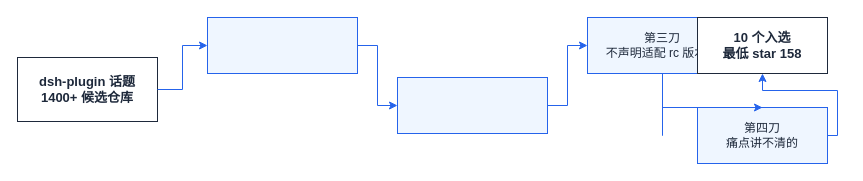
Image size: 863x181. Some labels were removed from this diagram. The shapes that lost their labels are listed below. From the top down, each one's centre as x and y in pixels, then its label:
At point (282, 45): "第一刀 star 个位数的跳过".
At point (472, 105): "第二刀 最近没有维护动作的".
